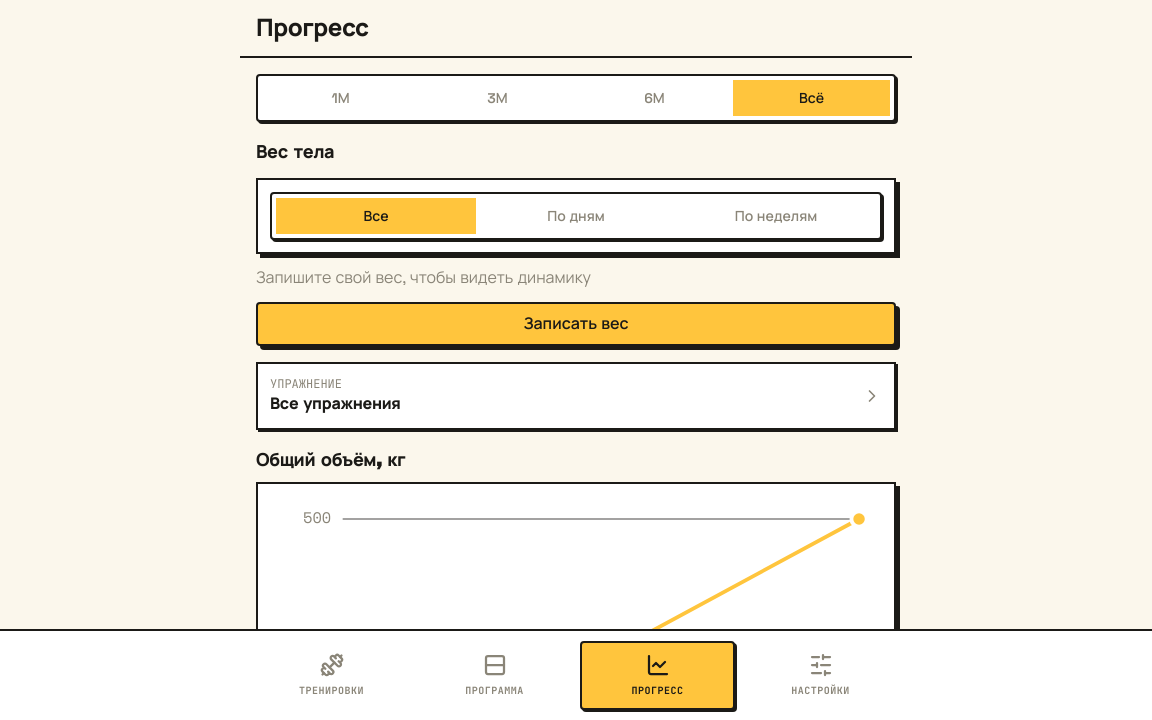
Test: Progress tab › filters to only the Volume chart for a weightReps exercise
Click the button "Упражнение Все упражнения": coordinates (306, 384) [256,362,896,430]
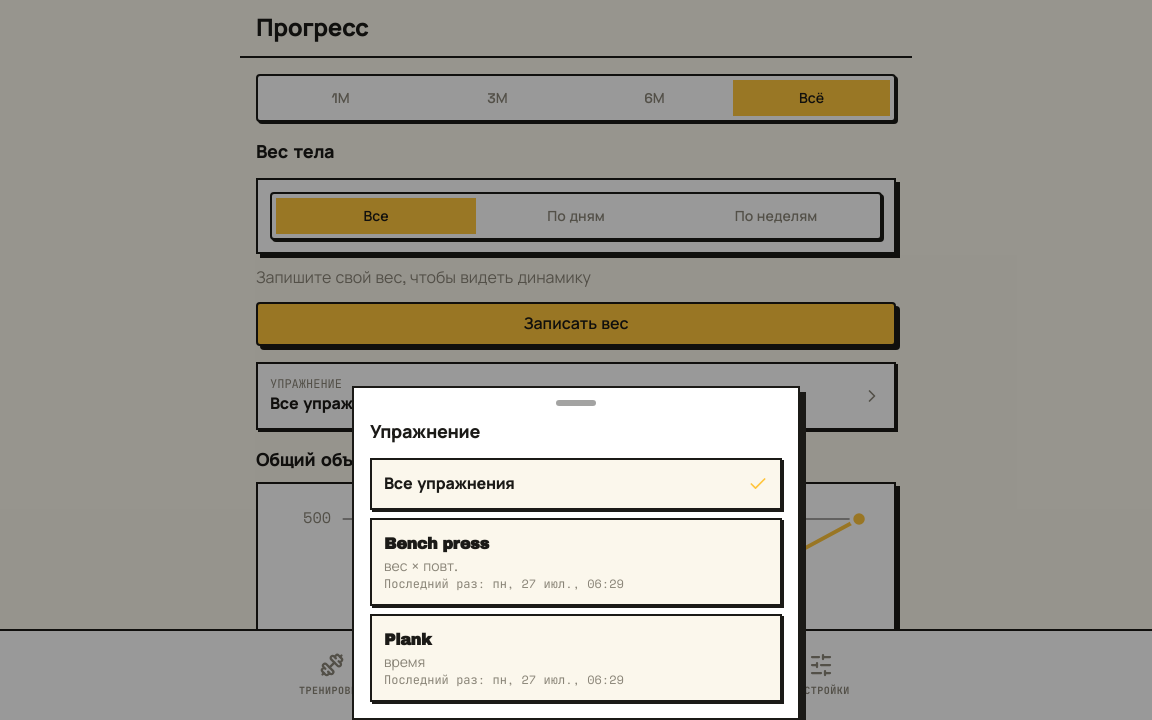
Click the button "Bench press": coordinates (436, 544) [370,518,782,606]
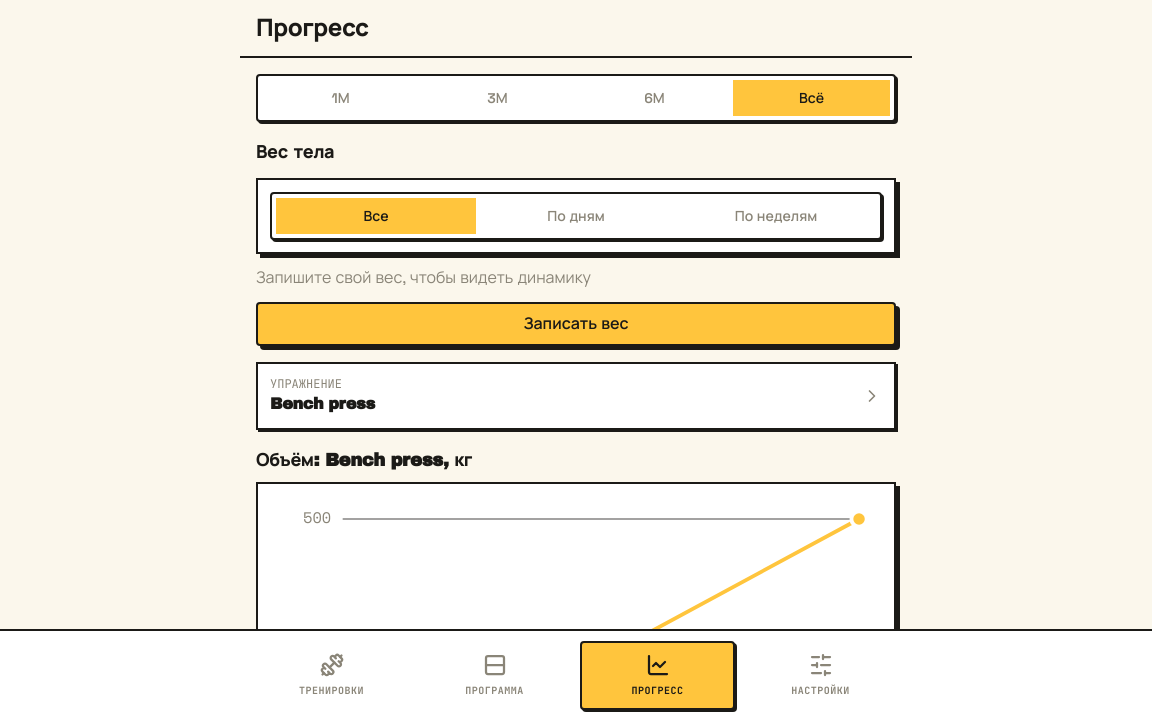
Expected: the heading "Объём: Bench press, кг" is shown, [256,450,472,470]
